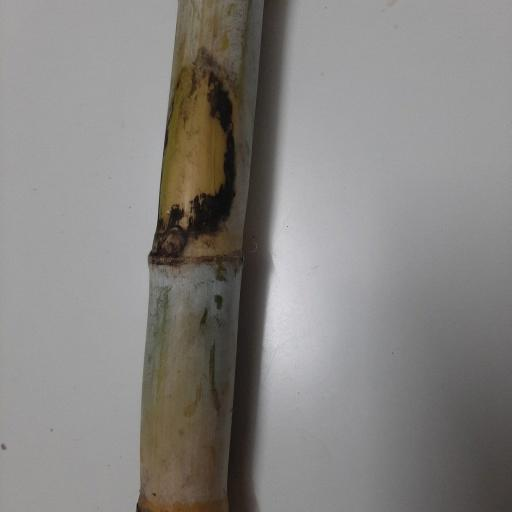Bud: (160, 231, 183, 257)
